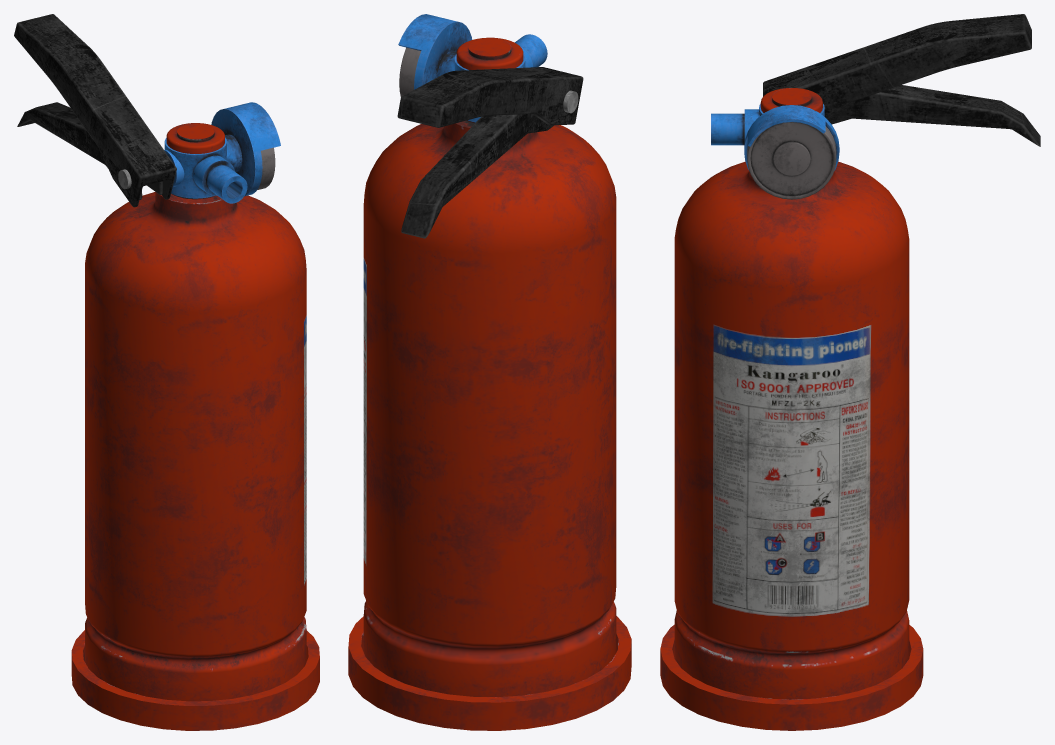
Rendered from FireExtinguisher003.fbx.
The picture shows the model from 3 angles, left to right: view 1: azimuth 30°, elevation 25°; view 2: azimuth 150°, elevation 25°; view 3: azimuth 270°, elevation 25°; orthographic projection. The views are drawn at different scales.
Visible parts, largest first — view 1: Cylinder.252, Cube.738, Cylinder.251, Cylinder.253, Cylinder.255, Cube.739, Cylinder.254; view 2: Cylinder.252, Cylinder.251, Cube.738, Cube.739, Cylinder.253, Cylinder.255, Cylinder.254; view 3: Cylinder.252, Cube.738, Cylinder.251, Cube.739, Cylinder.254, Cylinder.253, Cylinder.255.
Boxes of the visible parts, x1,y1,x2,y2 form: Cylinder.252: (85,123,306,701); Cube.738: (14,14,176,207); Cylinder.251: (71,630,319,730); Cylinder.253: (118,102,280,196); Cylinder.255: (164,137,247,203); Cube.739: (17,102,162,199); Cylinder.254: (257,147,275,189); Cylinder.252: (363,37,616,697); Cylinder.251: (348,616,631,730); Cube.738: (397,67,583,127); Cube.739: (401,114,553,238); Cylinder.253: (398,14,578,113); Cylinder.255: (454,34,547,122); Cylinder.254: (399,47,420,97); Cylinder.252: (674,88,909,699); Cube.738: (763,14,1031,119); Cylinder.251: (660,624,923,730); Cube.739: (828,85,1040,146); Cylinder.254: (747,122,836,199); Cylinder.253: (744,105,839,170); Cylinder.255: (711,104,824,145).
Bounding box in the file's own units: 13.81 × 36.28 × 19.96.
